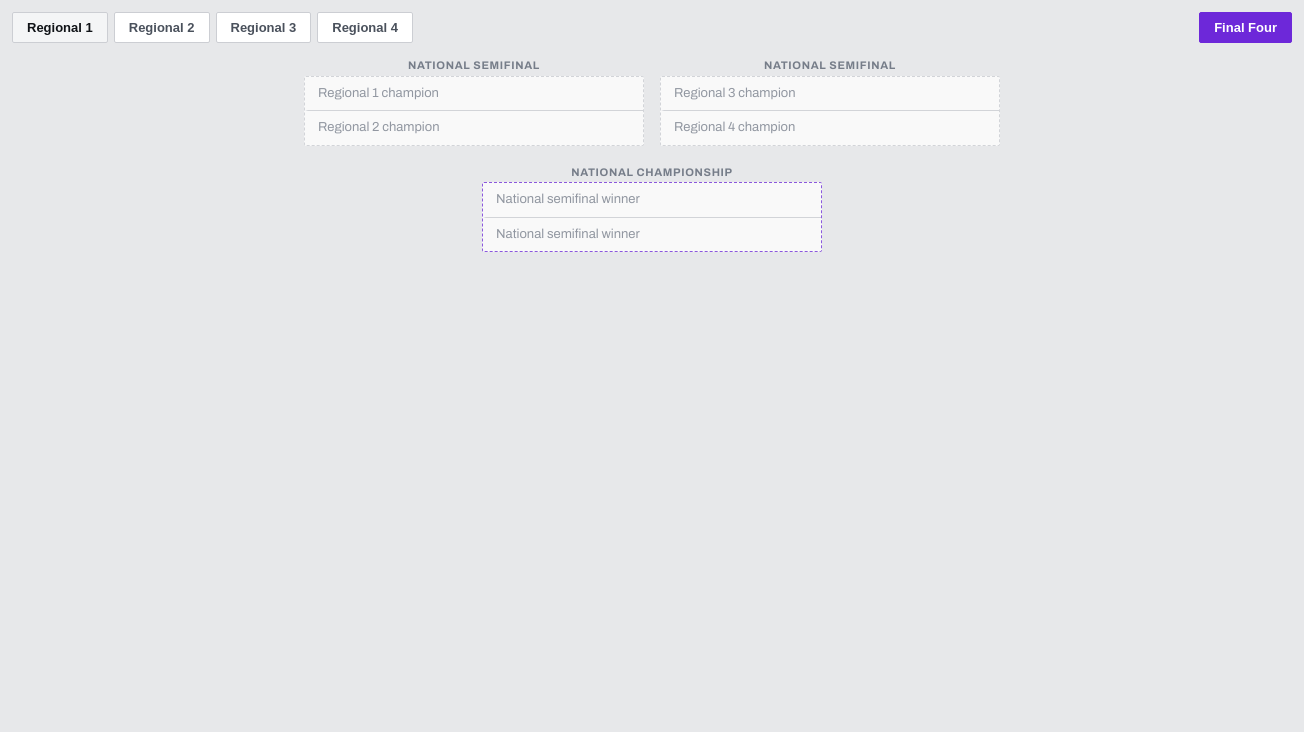
Test case: Bracket — projected feeders and TBD team lines › renders a resolved TBD team line with its seed
The image size is (1304, 732).
Click the tab "Regional 1" at coordinates (60, 28), box [12, 12, 108, 43]
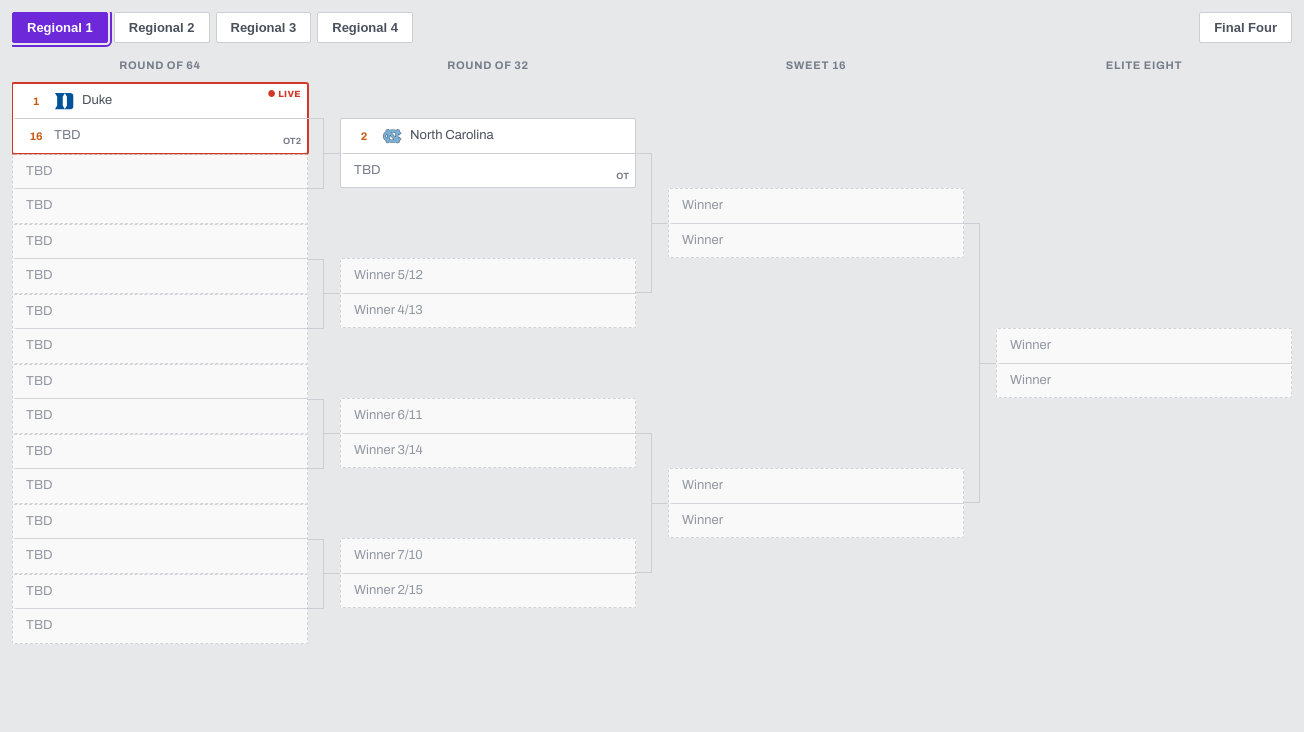
Result: the element with class "mm-tbd" showing "16 TBD" is shown at [13, 118, 307, 152]
Result: the text with class "mm-name" below "● Live" reads "TBD" at [54, 128, 80, 142]
